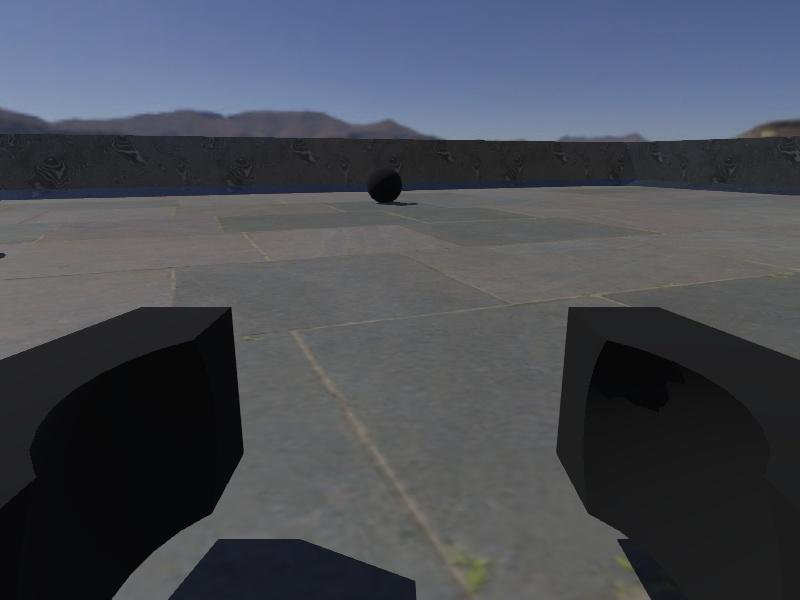black ball: (366, 166, 404, 205)
